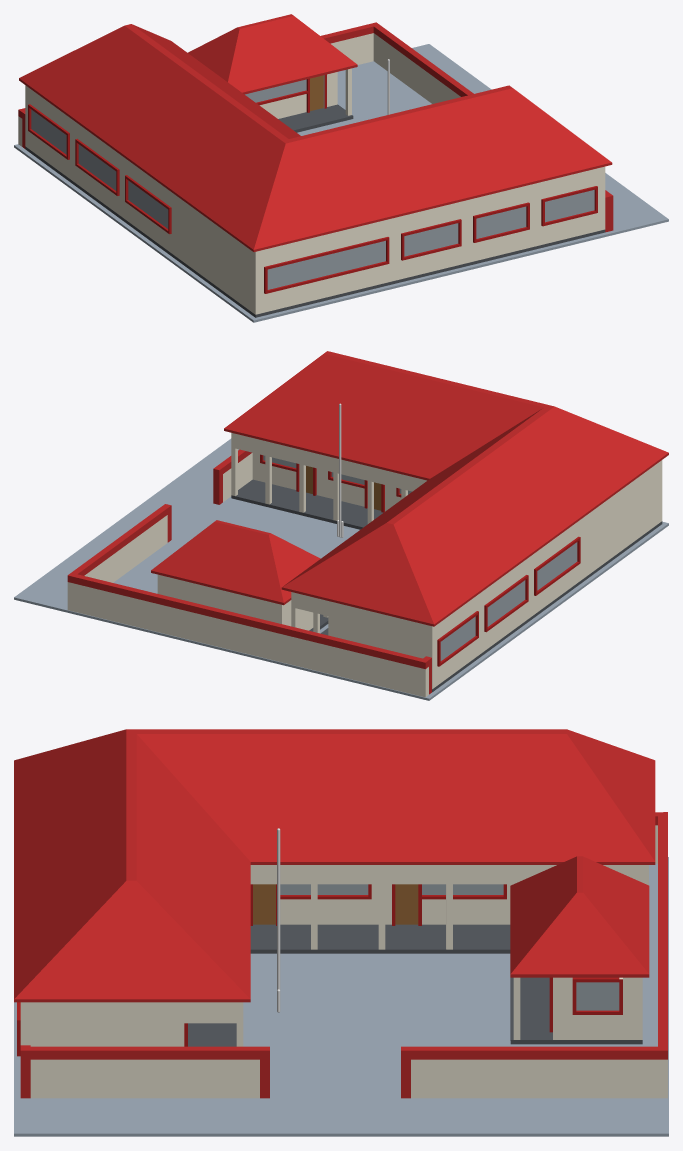
Rendered from school-elementary.glb.
3 views of the same model, one above another, from view 1: azimuth 30°, elevation 25°; view 2: azimuth 150°, elevation 25°; view 3: azimuth 270°, elevation 25° (orthographic). The views are drawn at different scales.
Parts seen in each view (by area): view 1: alas.001; view 2: alas.001; view 3: alas.001.
Boxes of the visible parts, box(x1,y1,x2,y2) form: alas.001: box(14, 14, 668, 322); alas.001: box(14, 351, 668, 700); alas.001: box(14, 729, 668, 1136).
Size of the model in its own units: 20 by 6.27 by 20.
